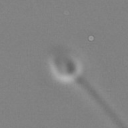normal: (77, 75, 127, 128)
